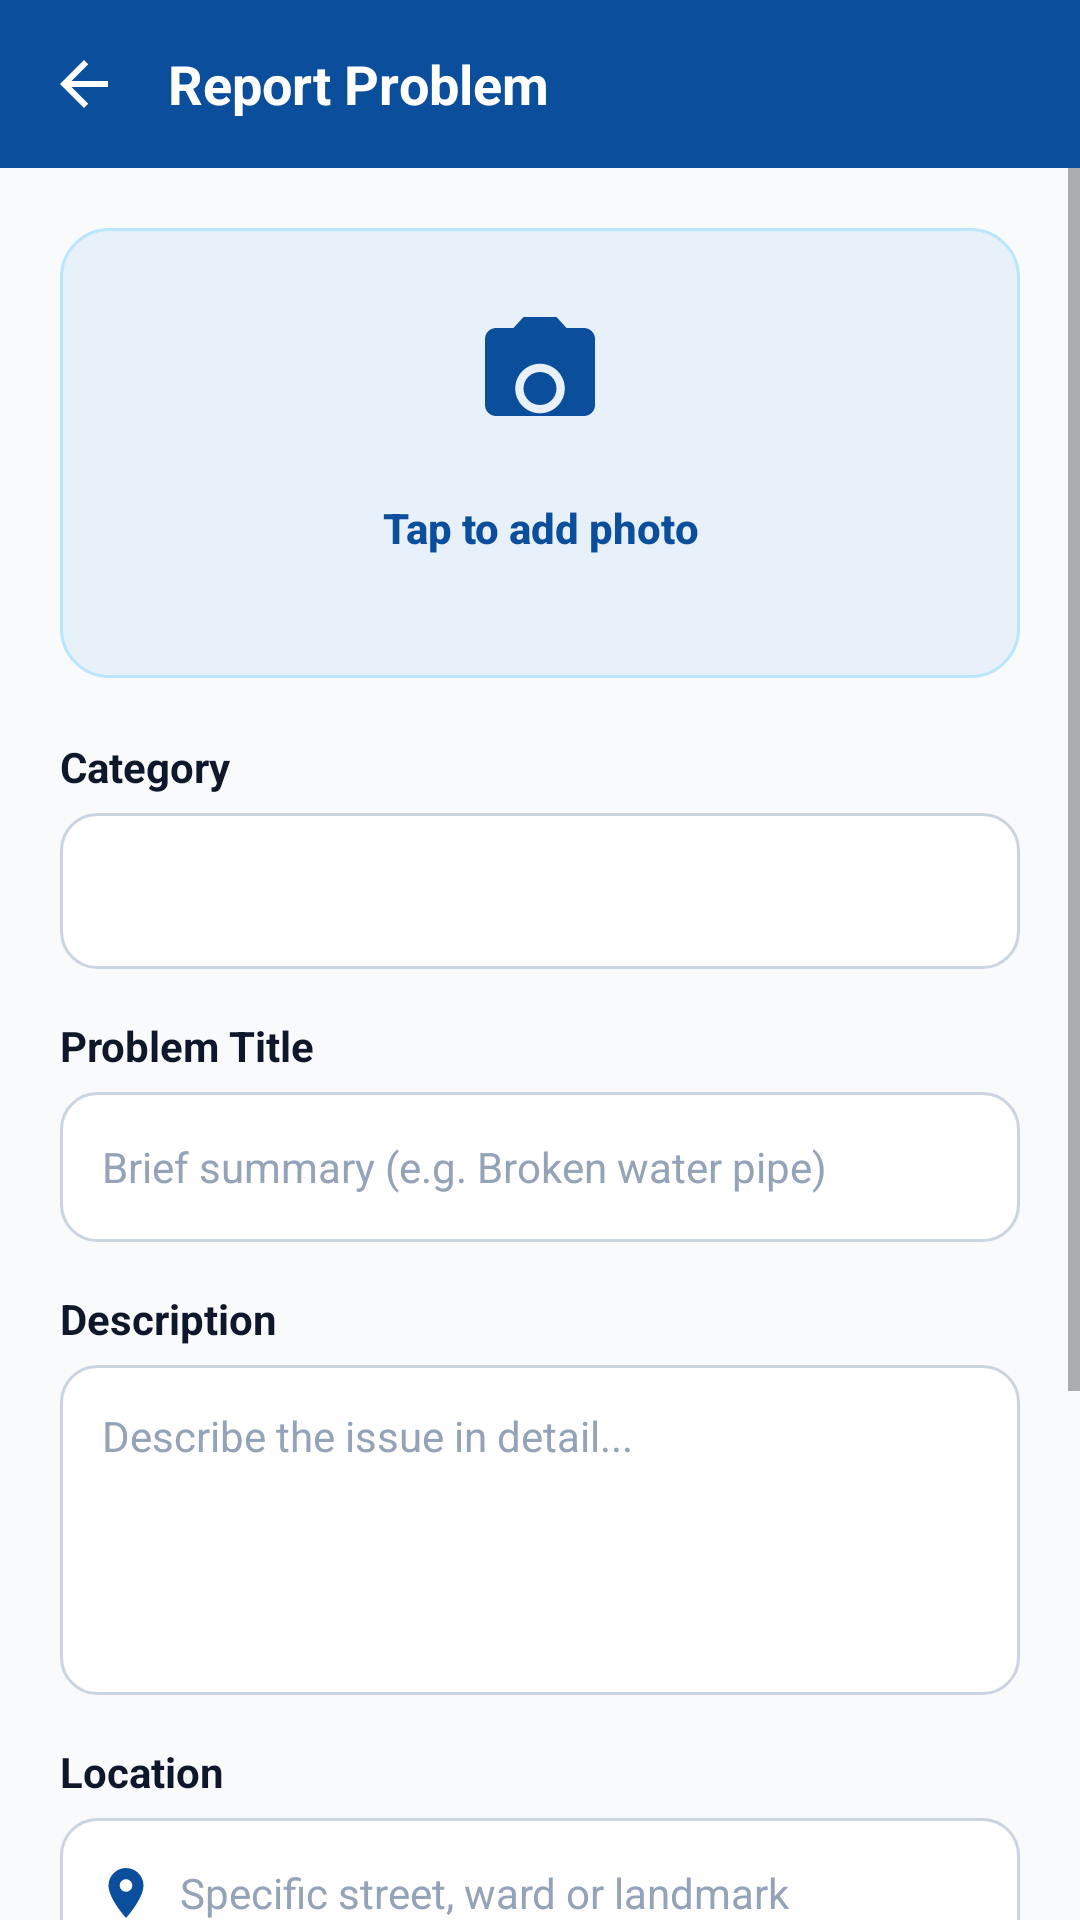

Named icons in this screenshot (1080 × 1920) and their bounding boxes, (x1=x1, y1=y1, x2=x2, y2=y2):
Back: (x1=60, y1=60, x2=108, y2=108)
Camera: (x1=485, y1=317, x2=595, y2=416)
